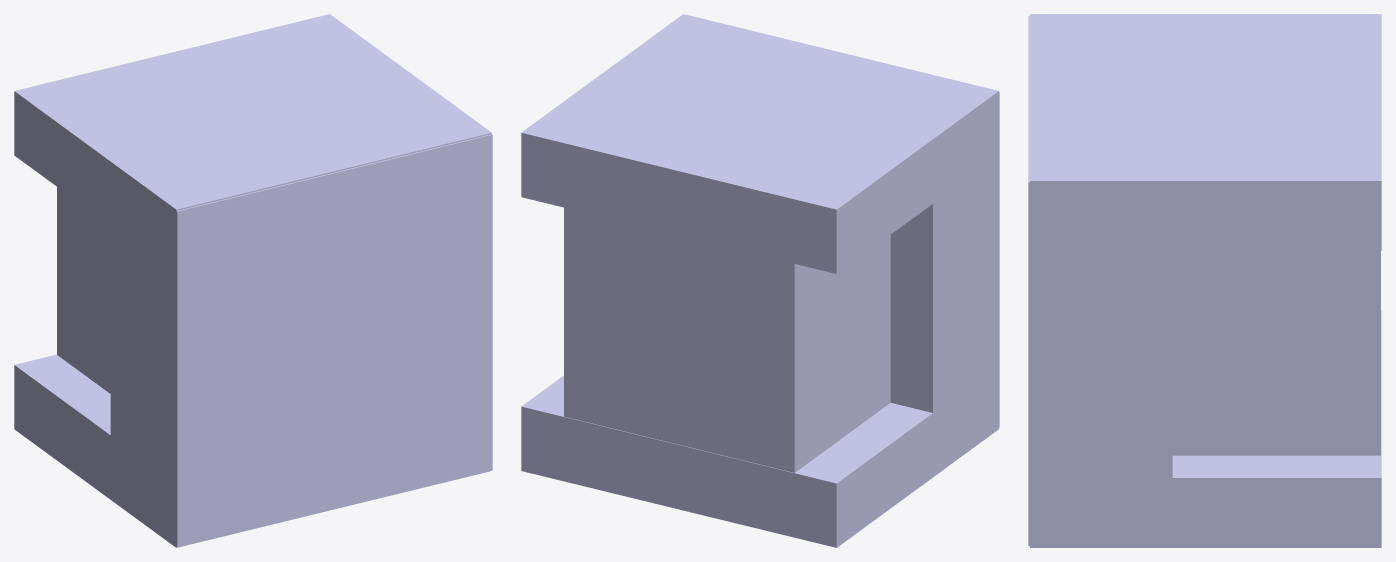
File: vss-robot-vrep.dae
3 views of the same model, side by side, from view 1: azimuth 30°, elevation 25°; view 2: azimuth 150°, elevation 25°; view 3: azimuth 270°, elevation 25° (orthographic). The views are drawn at different scales.
Parts seen in each view (by area): view 1: VSS_model; view 2: VSS_model; view 3: VSS_model.
Boxes of the visible parts, x1,y1,x2,y2 form: VSS_model: (14, 14, 492, 547); VSS_model: (521, 14, 999, 547); VSS_model: (1028, 14, 1381, 547).
Size of the model in its own units: 0.082 by 0.084 by 0.0733.
